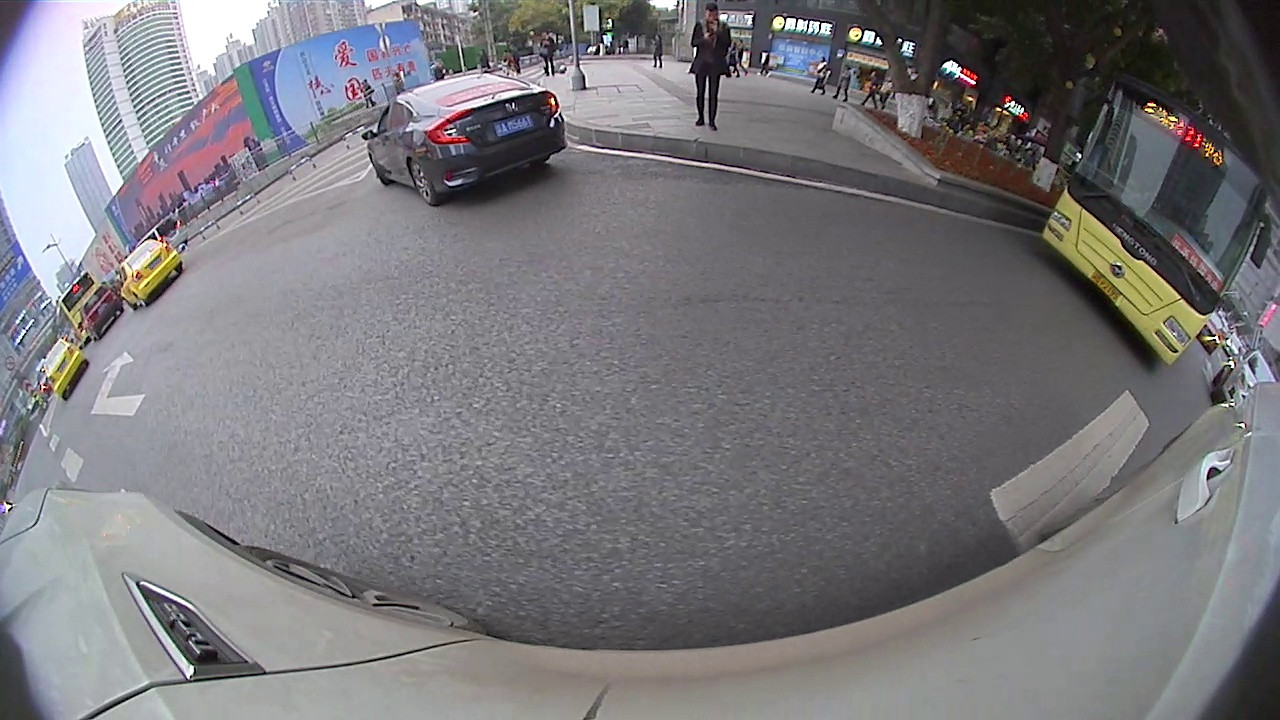bus: (1033, 63, 1277, 374)
car: (360, 68, 570, 211), (113, 231, 188, 315), (36, 339, 93, 405)
person: (695, 4, 731, 136)
rear: (408, 162, 437, 206)
